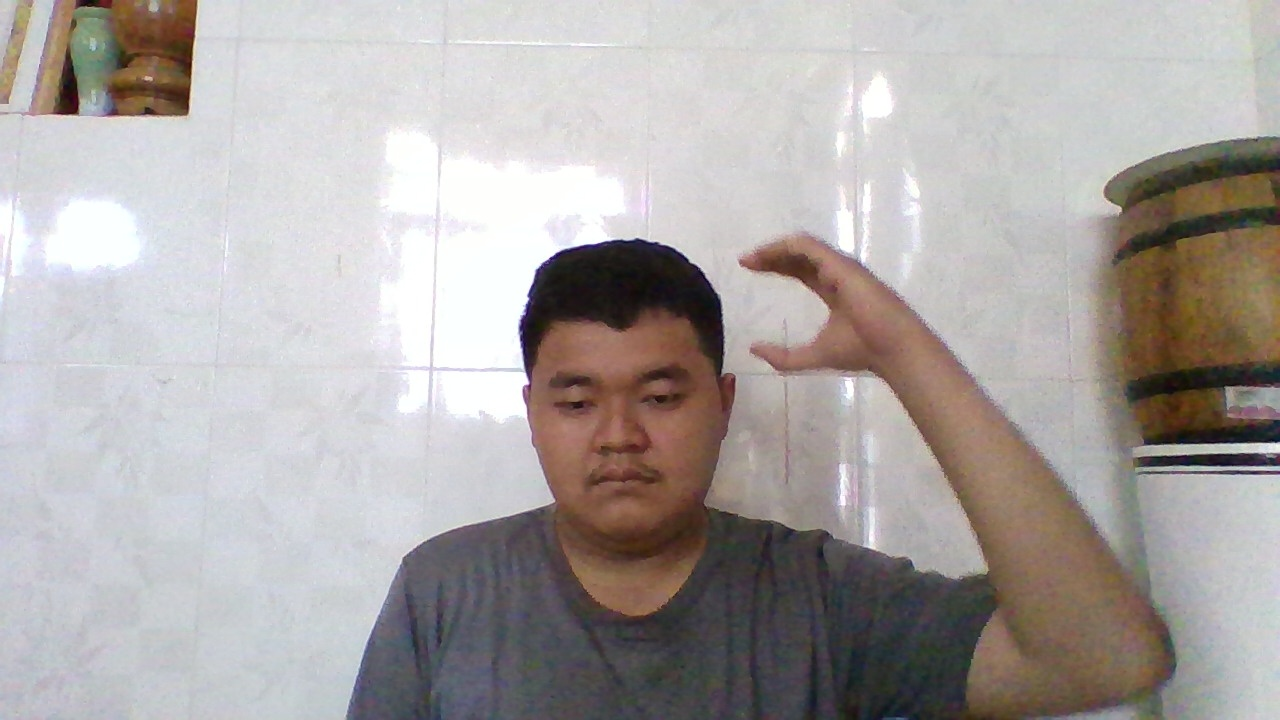C: (734, 229, 910, 380)
